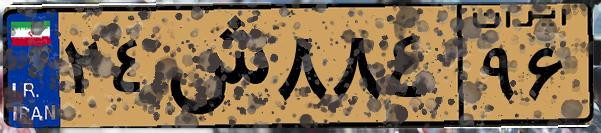2: (57, 26, 110, 100)
4: (385, 28, 445, 110), (110, 28, 158, 98)
6: (525, 38, 570, 115)
8: (270, 28, 330, 110), (330, 28, 385, 110)
9: (475, 38, 525, 113)
ش: (158, 12, 270, 120)
